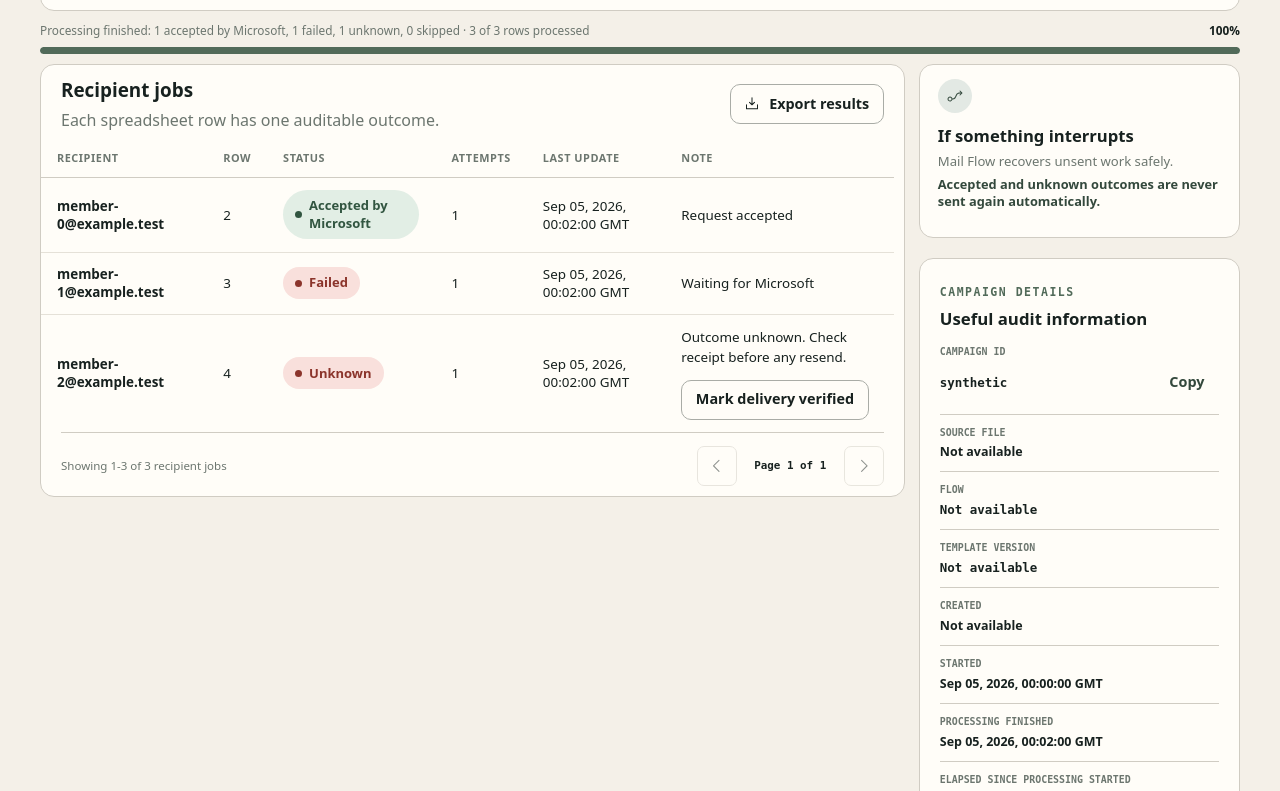
Scenario: campaign outcome reporting › requires explicit receipt confirmation and shows a separate saved result
(page scrolled)
Click the button "Mark delivery verified" at (775,400), box x1=681 y1=380 x2=869 y2=420
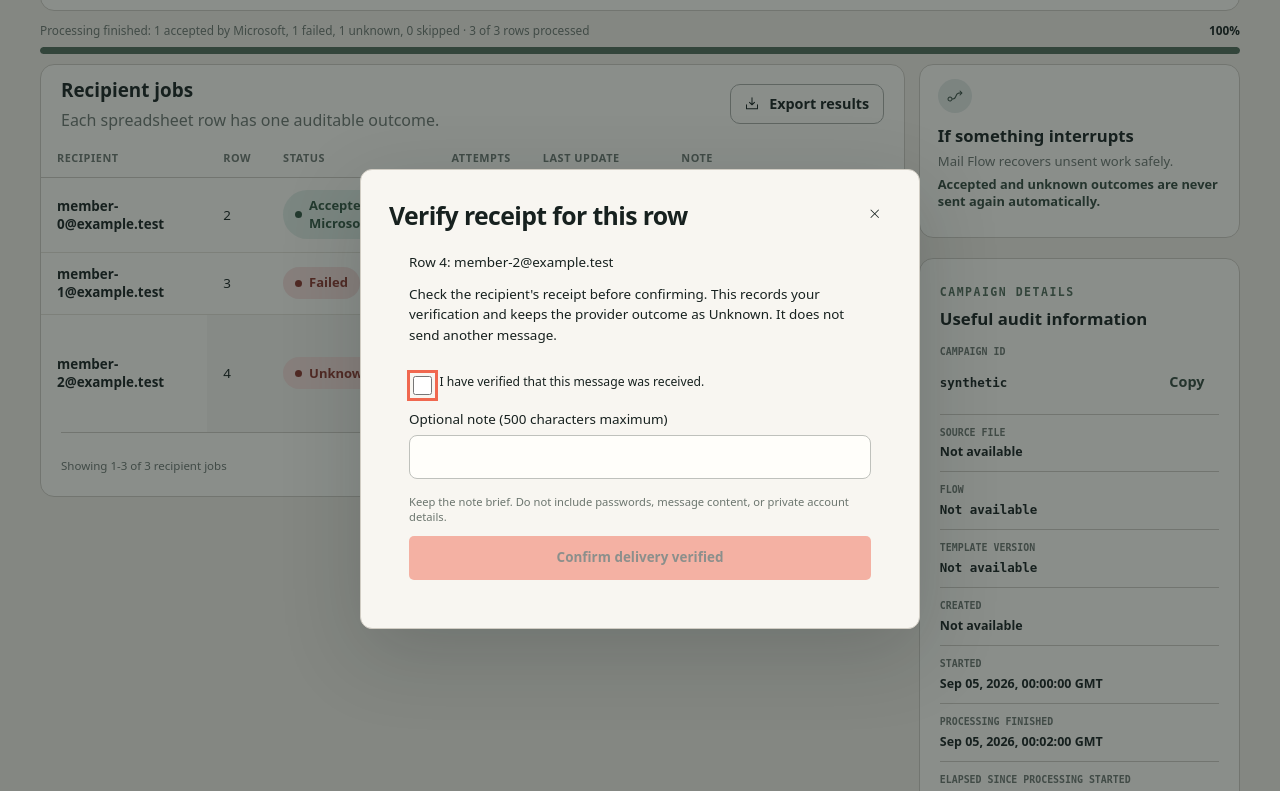
Check: the button "Confirm delivery verified" is disabled, box x1=409 y1=536 x2=871 y2=580
Click the checkbox at (422,385), box x1=413 y1=376 x2=432 y2=395
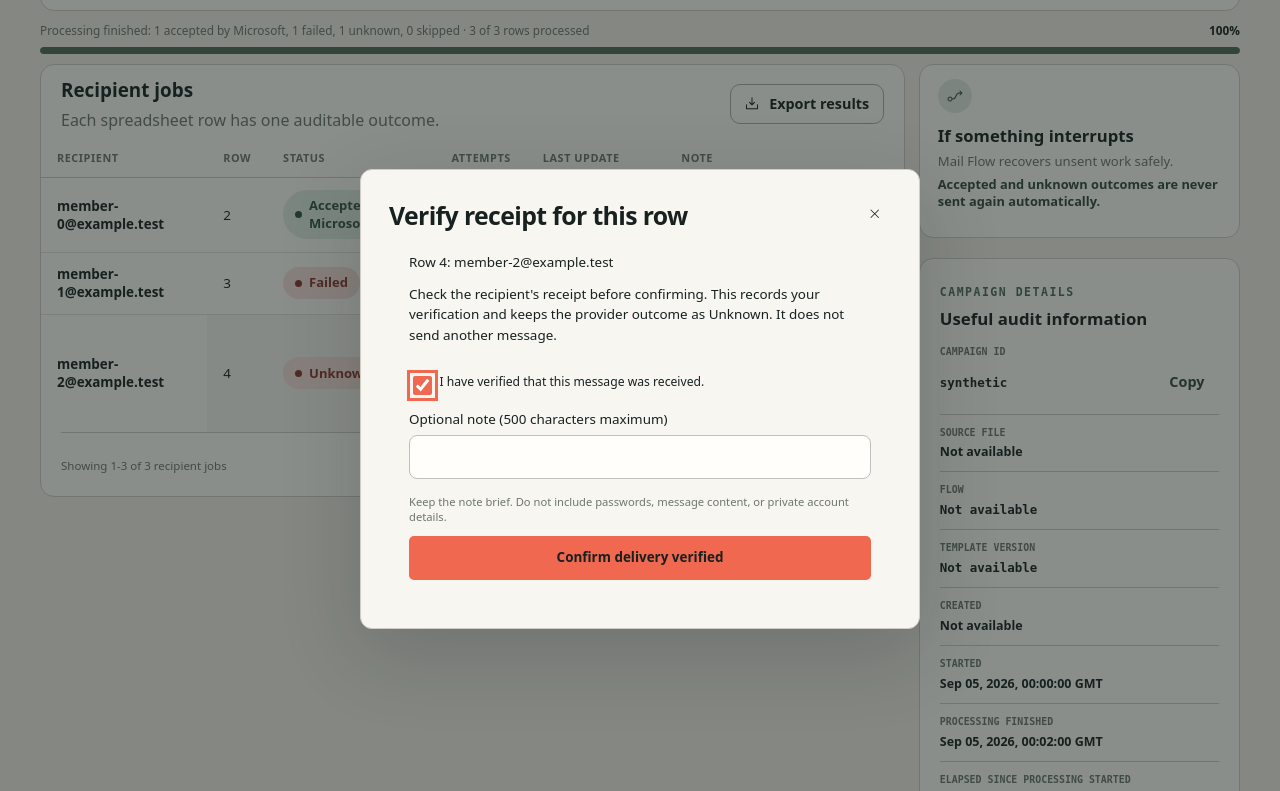
Type "Receipt checked" into the field at (640,457), box x1=409 y1=435 x2=871 y2=479
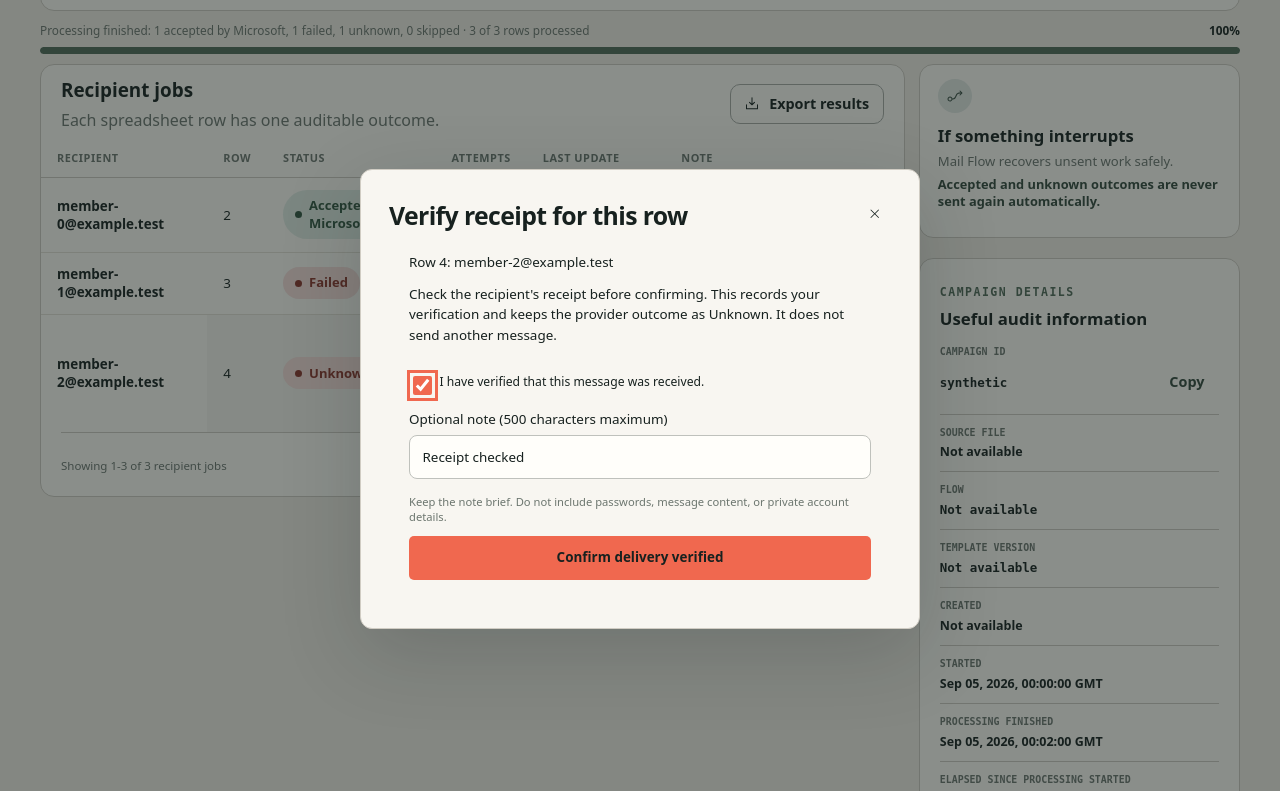
Click the button "Confirm delivery verified" at (640,558), box x1=409 y1=536 x2=871 y2=580
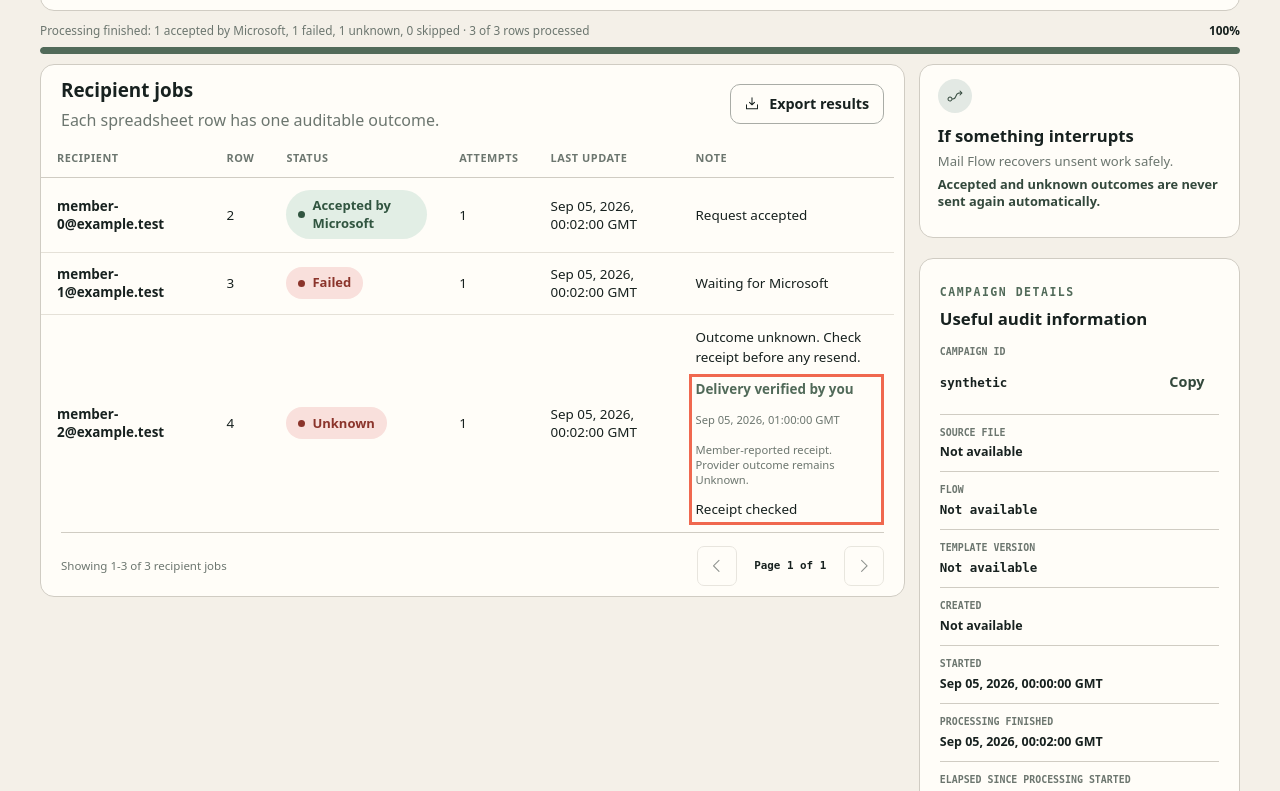
Check: the text "Delivery verified by you" is shown, box x1=696 y1=380 x2=878 y2=398
Check: the text "Member-reported receipt. Provider outcome remains Unknown." is shown, box x1=696 y1=442 x2=835 y2=487
